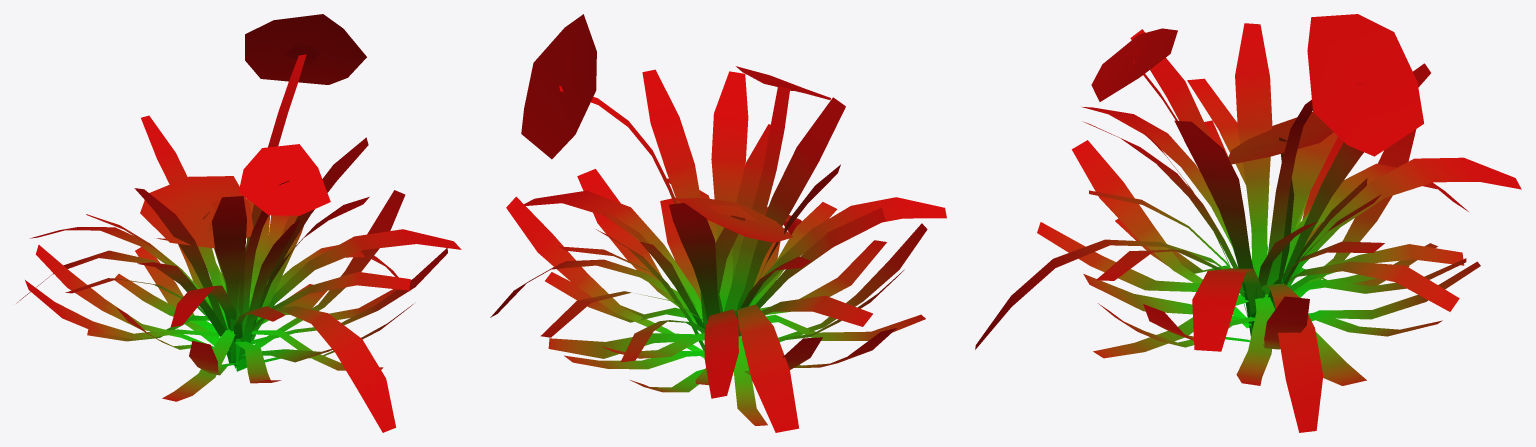
Rendered from Var1_LOD2.fbx.
3 renders of one model, left to right at view 1: azimuth 30°, elevation 25°; view 2: azimuth 150°, elevation 25°; view 3: azimuth 270°, elevation 25°, orthographic. The views are drawn at different scales.
Visible parts, largest first — view 1: _bd8c_Var1_LOD2; view 2: _bd8c_Var1_LOD2; view 3: _bd8c_Var1_LOD2.
Boxes of the visible parts, <box> form: _bd8c_Var1_LOD2: <box>16,14,461,432</box>; _bd8c_Var1_LOD2: <box>490,14,946,432</box>; _bd8c_Var1_LOD2: <box>975,14,1521,432</box>.
Size of the model in its own units: 47.96 by 37.44 by 47.74.
